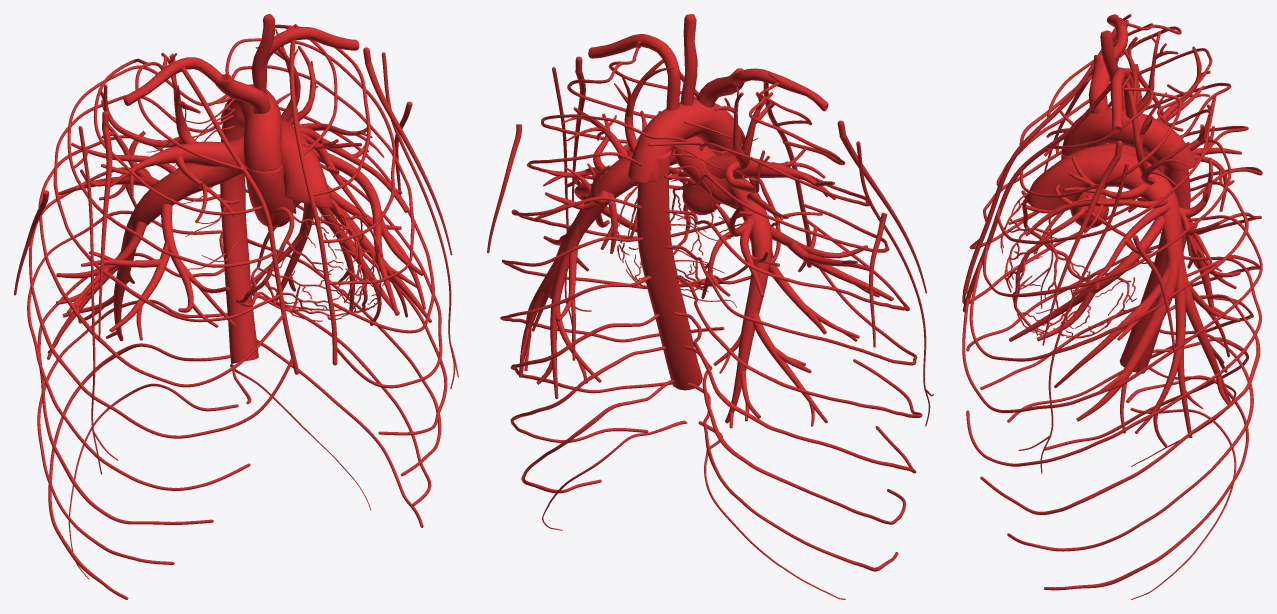
The model's file is arteries.thorax.glb.
3 renders of one model, left to right at view 1: azimuth 30°, elevation 25°; view 2: azimuth 150°, elevation 25°; view 3: azimuth 270°, elevation 25°, orthographic. The views are drawn at different scales.
Parts seen in each view (by area): view 1: set_of_posterior_intercostal_arteries, descending_thoracic_aorta, arch_of_aorta, right_pulmonary_artery, pulmonary_trunk, inferior_lingular_artery, left_internal_thoracic_artery, right_internal_thoracic_artery, ascending_aorta, left_anterior_segmental_artery, right_subclavian_artery, left_subclavian_artery (+25 smaller); view 2: set_of_posterior_intercostal_arteries, descending_thoracic_aorta, arch_of_aorta, right_pulmonary_artery, left_posterior_basal_segmental_artery, left_subclavian_artery, left_pulmonary_artery, mediobasal_branch_of_right_posterior_basal_segmental_artery, left_superior_segmental_artery, lateral_branch_of_right_lateral_basal_segmental_artery, left_common_carotid_artery, left_lateral_basal_segmental_artery (+20 smaller); view 3: set_of_posterior_intercostal_arteries, arch_of_aorta, left_pulmonary_artery, descending_thoracic_aorta, left_anterior_basal_segmental_artery, pulmonary_trunk, left_anterior_segmental_artery, left_lateral_basal_segmental_artery, inferior_lingular_artery, left_posterior_basal_segmental_artery, right_internal_thoracic_artery, left_internal_thoracic_artery (+22 smaller).
Part boxes in pixels (box(x1,y1,x2,y2)): set_of_posterior_intercostal_arteries: box(27, 38, 447, 599); descending_thoracic_aorta: box(220, 103, 258, 363); arch_of_aorta: box(220, 84, 282, 171); right_pulmonary_artery: box(128, 131, 286, 229); pulmonary_trunk: box(281, 134, 332, 207); inferior_lingular_artery: box(312, 148, 423, 315); left_internal_thoracic_artery: box(289, 39, 337, 365); right_internal_thoracic_artery: box(181, 67, 299, 374); ascending_aorta: box(244, 164, 294, 227); left_anterior_segmental_artery: box(294, 123, 384, 217); right_subclavian_artery: box(123, 57, 221, 105); left_subclavian_artery: box(263, 27, 359, 89); set_of_posterior_intercostal_arteries: box(500, 114, 922, 599); descending_thoracic_aorta: box(637, 150, 702, 390); arch_of_aorta: box(628, 98, 742, 182); right_pulmonary_artery: box(675, 136, 772, 270); left_posterior_basal_segmental_artery: box(536, 223, 601, 398); left_subclavian_artery: box(588, 34, 680, 110); left_pulmonary_artery: box(571, 148, 677, 237); mediobasal_branch_of_right_posterior_basal_segmental_artery: box(725, 270, 768, 428); left_superior_segmental_artery: box(532, 163, 617, 253); lateral_branch_of_right_lateral_basal_segmental_artery: box(753, 313, 827, 426); left_common_carotid_artery: box(680, 14, 697, 105); left_lateral_basal_segmental_artery: box(519, 230, 572, 377); set_of_posterior_intercostal_arteries: box(962, 48, 1262, 599); arch_of_aorta: box(1061, 107, 1196, 170); left_pulmonary_artery: box(1086, 148, 1183, 270); descending_thoracic_aorta: box(1119, 167, 1190, 373); left_anterior_basal_segmental_artery: box(1076, 252, 1179, 433); pulmonary_trunk: box(1028, 146, 1093, 210); left_anterior_segmental_artery: box(1025, 156, 1168, 235); left_lateral_basal_segmental_artery: box(1135, 265, 1203, 446); inferior_lingular_artery: box(1009, 215, 1164, 341); left_posterior_basal_segmental_artery: box(1181, 254, 1240, 404); right_internal_thoracic_artery: box(962, 27, 1116, 294); left_internal_thoracic_artery: box(962, 82, 1110, 312).
Size of the model in its own units: 0.2779 by 0.3654 by 0.1935.
